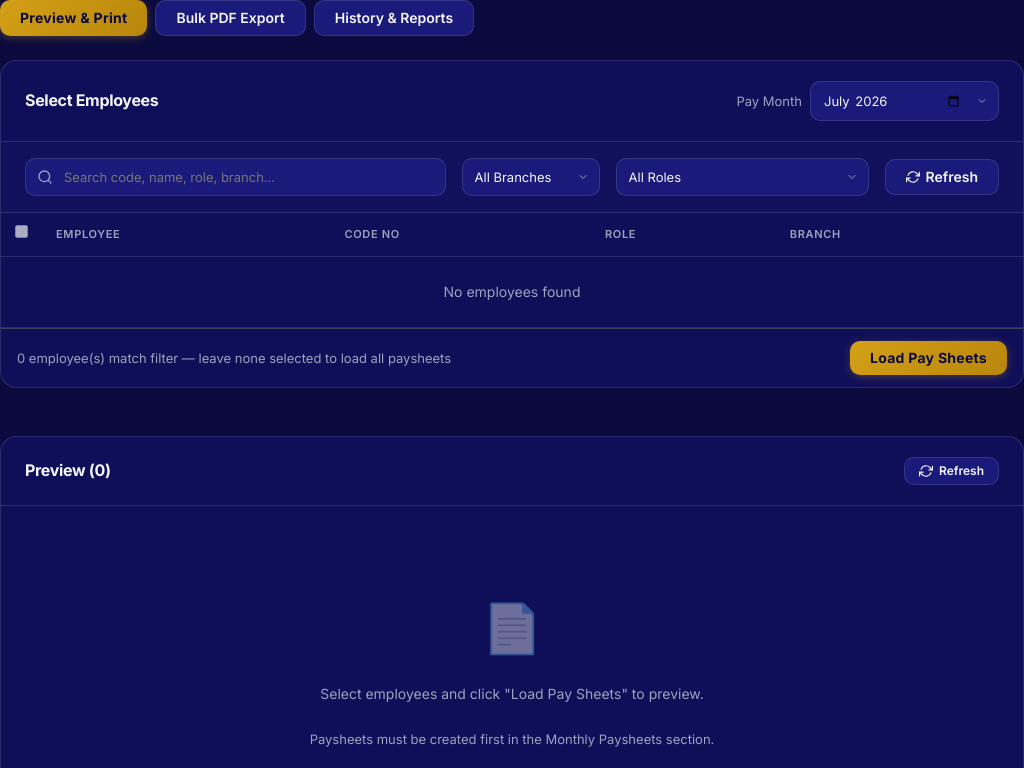
Test case: Payroll page — history tab › shows employee code in history list
The image size is (1024, 768).
Click the button "History & Reports". click: (394, 18)
box: left=314, top=0, right=474, bottom=36
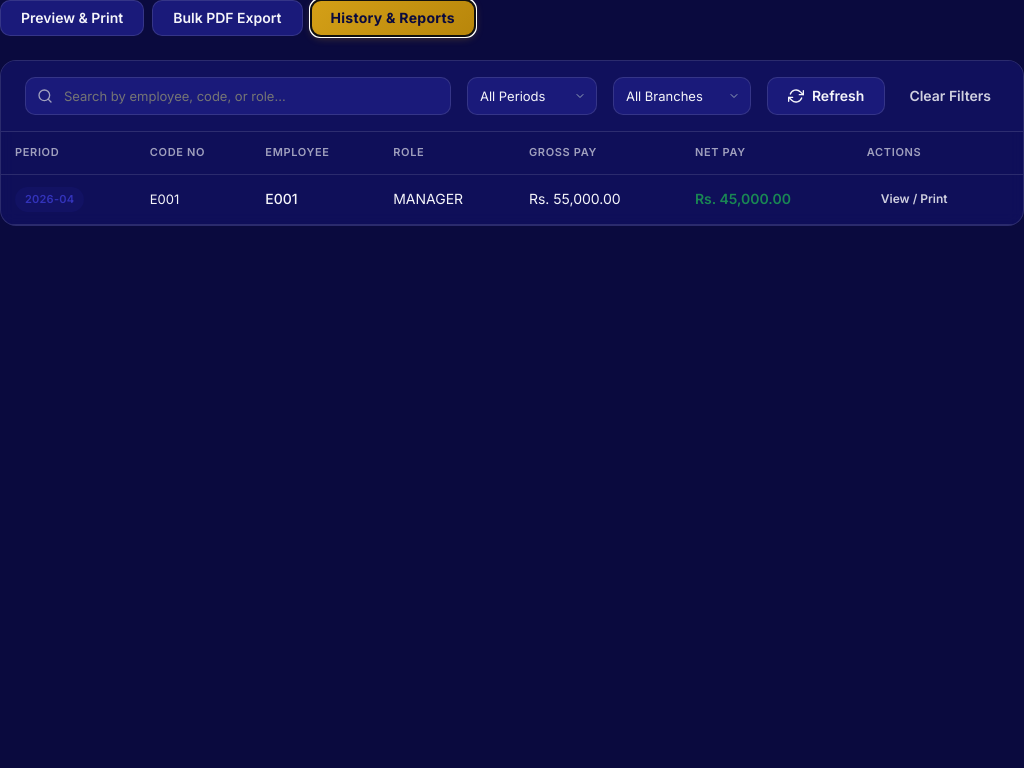
Check: the 1st text "E001" is shown, box left=136, top=174, right=251, bottom=225
